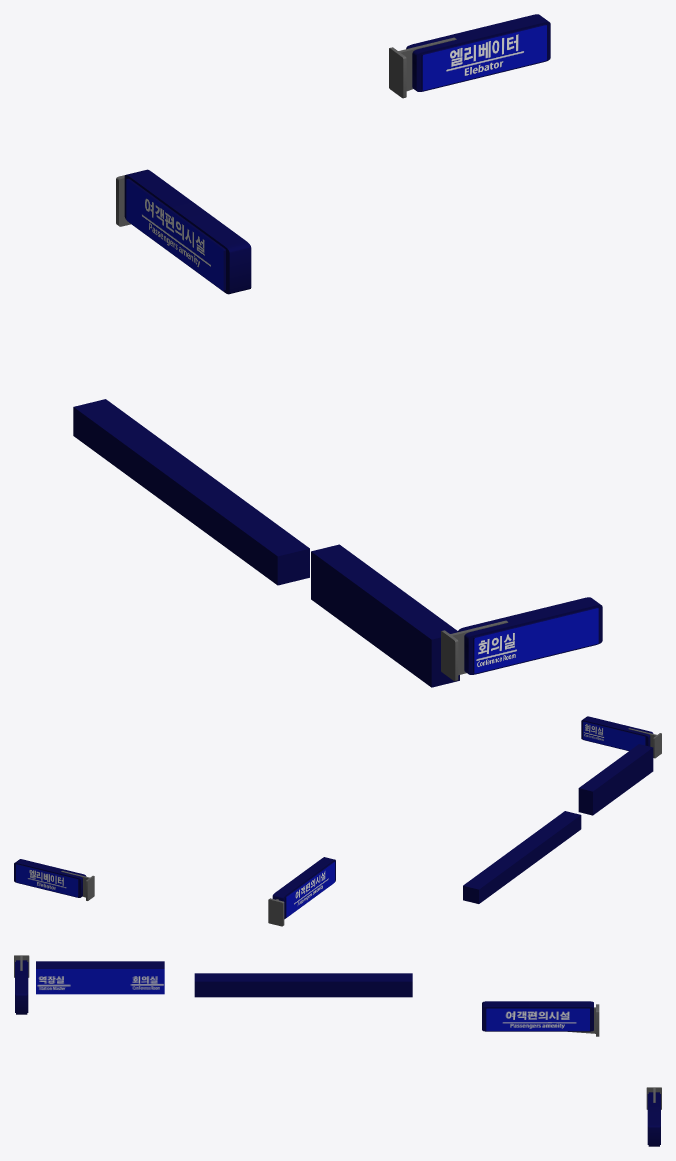
File: Signs.fbx
3 renders of one model, top to bottom at view 1: azimuth 30°, elevation 25°; view 2: azimuth 150°, elevation 25°; view 3: azimuth 270°, elevation 25°, orthographic. The views are drawn at different scales.
Parts seen in each view (by area): view 1: 2맞이방 매표소 표지판, 2맞이방 회의실 표지판, Object001, Object005, 2맞이방 표지판 1-007, Object004, 2맞이방 표지판 1-005, 2맞이방 표지판 1-003, 2맞이방 표지판 1-006, 2맞이방 표지판 1-004; view 2: 2맞이방 매표소 표지판, 2맞이방 회의실 표지판, Object005, Object001, Object004, 2맞이방 표지판 1-007, 2맞이방 표지판 1-003, 2맞이방 표지판 1-005, 2맞이방 표지판 1-008; view 3: 2맞이방 매표소 표지판, Object002, Object004, 2맞이방 표지판 1-007, 2맞이방 회의실 표지판, 2맞이방 표지판 1-003, 2맞이방 표지판 1-005.
Boxes of the visible parts, box(x1,y1,x2,y2) form: 2맞이방 매표소 표지판: box(73, 399, 309, 585); 2맞이방 회의실 표지판: box(311, 544, 459, 687); Object001: box(474, 608, 598, 673); Object005: box(422, 25, 546, 90); 2맞이방 표지판 1-007: box(124, 169, 251, 294); Object004: box(126, 179, 223, 290); 2맞이방 표지판 1-005: box(458, 597, 602, 674); 2맞이방 표지판 1-003: box(406, 14, 550, 91); 2맞이방 표지판 1-006: box(441, 620, 508, 681); 2맞이방 표지판 1-004: box(389, 37, 456, 98); 2맞이방 매표소 표지판: box(463, 811, 581, 903); 2맞이방 회의실 표지판: box(578, 744, 653, 815); Object005: box(16, 864, 77, 897); Object001: box(583, 722, 645, 750); Object004: box(286, 862, 334, 917); 2맞이방 표지판 1-007: box(272, 857, 335, 919); 2맞이방 표지판 1-003: box(14, 859, 86, 897); 2맞이방 표지판 1-005: box(581, 716, 653, 750); 2맞이방 표지판 1-008: box(268, 898, 284, 926); 2맞이방 매표소 표지판: box(194, 973, 412, 997); Object002: box(36, 969, 164, 994); Object004: box(486, 1008, 589, 1030); 2맞이방 표지판 1-007: box(482, 1001, 593, 1031); 2맞이방 회의실 표지판: box(36, 961, 164, 968); 2맞이방 표지판 1-003: box(647, 1092, 660, 1146); 2맞이방 표지판 1-005: box(15, 960, 28, 1014).
Bounding box in the file's own units: 6.96 × 0.8053 × 10.49.
Materials: 6 (4 with a texture image).
